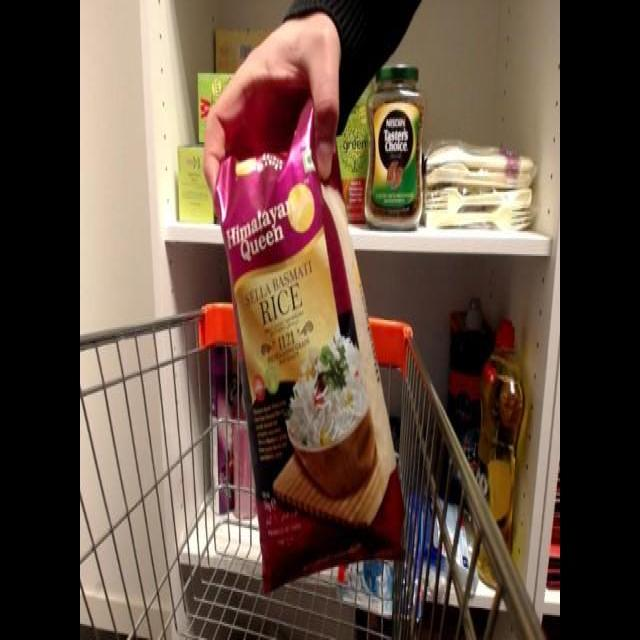Basmati Rice: (210, 92, 415, 576)
